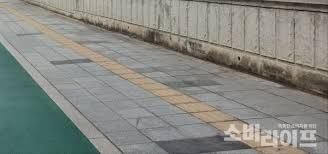guide_blocks: (89, 55, 149, 83), (148, 84, 212, 110), (51, 32, 92, 54)
